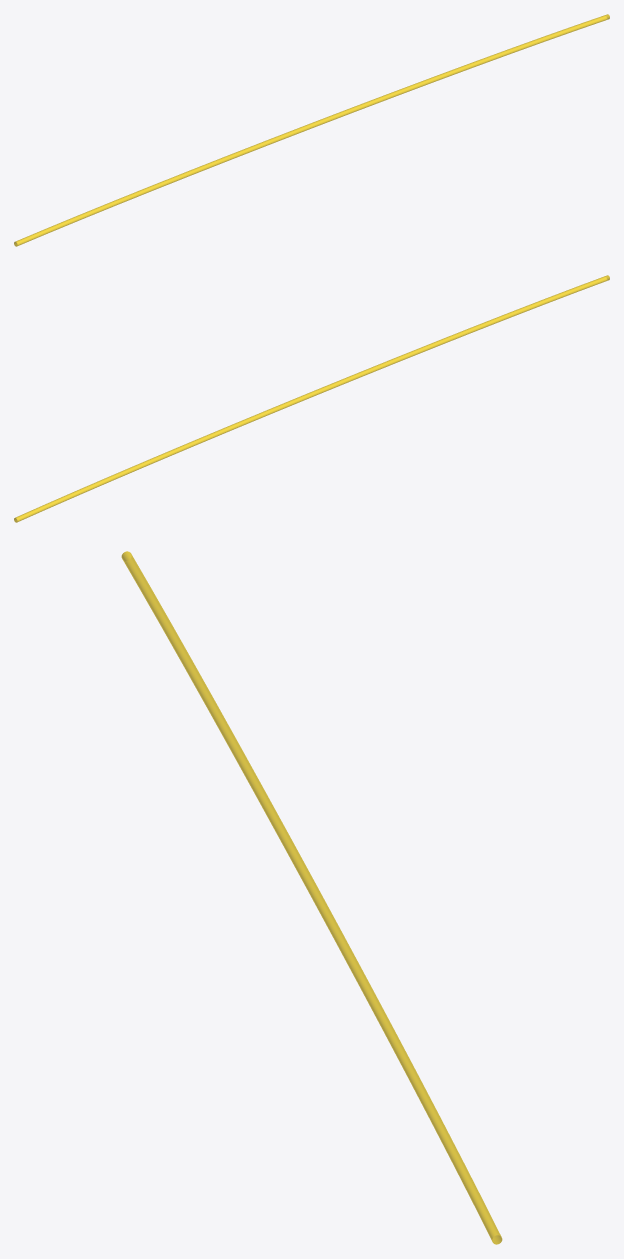
Rendered from Event_75125125_track_43.fbx.
3 views of the same model, one above another, from view 1: azimuth 30°, elevation 25°; view 2: azimuth 210°, elevation 25°; view 3: azimuth 270°, elevation 25° (orthographic). The views are drawn at different scales.
Visible parts, largest first — view 1: Model; view 2: Model; view 3: Model.
Boxes of the visible parts, left/top/right/bottom form: Model: left=14, top=14, right=609, bottom=246; Model: left=14, top=275, right=609, bottom=522; Model: left=121, top=551, right=502, bottom=1244.
Size of the model in its own units: 6.09 by 0.1195 by 1.46.
